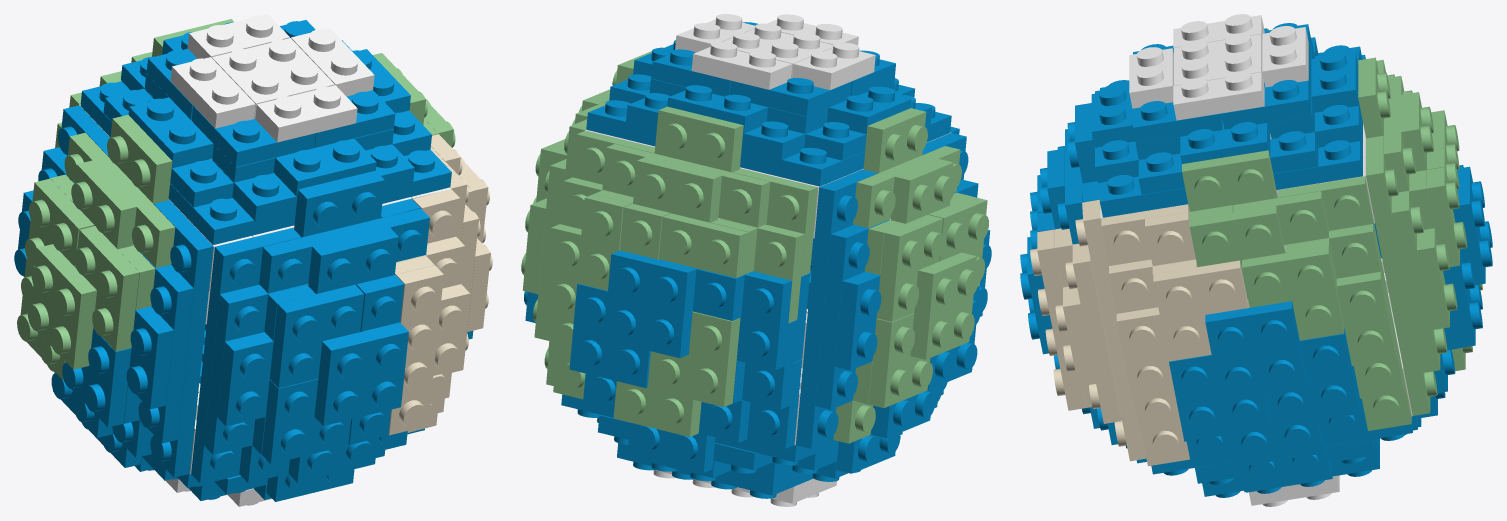
The model's file is earth.glb.
The picture shows the model from 3 angles, left to right: view 1: azimuth 30°, elevation 25°; view 2: azimuth 150°, elevation 25°; view 3: azimuth 270°, elevation 25°; orthographic projection.
Parts seen in each view (by area): view 1: 3022_dot_dat.105, 3795_dot_dat.008, 3958_dot_dat.003, 3022_dot_dat.103, 3795_dot_dat.009, 3022_dot_dat.097, 3710_dot_dat.023, 3022_dot_dat.093, 3710_dot_dat.019, 3022_dot_dat.104, 3022_dot_dat.121, 3020_dot_dat.038 (+49 smaller); view 2: 3022_dot_dat.087, 3795_dot_dat.007, 3022_dot_dat.086, 3022_dot_dat.097, 3958_dot_dat.003, 3020_dot_dat.046, 3022_dot_dat.094, 3022_dot_dat.085, 3710_dot_dat.016, 3022_dot_dat.081, 3020_dot_dat.031, 3022_dot_dat.082 (+56 smaller); view 3: 3022_dot_dat.079, 3022_dot_dat.077, 3022_dot_dat.075, 3795_dot_dat.006, 3022_dot_dat.078, 3022_dot_dat.076, 3958_dot_dat.003, 3666_dot_dat.003, 3795_dot_dat.011, 3022_dot_dat.071, 3020_dot_dat.040, 3022_dot_dat.073 (+49 smaller).
Part boxes in pixels (x1,y1,x2,y2): 3022_dot_dat.105: [314, 322, 408, 425]; 3795_dot_dat.008: [150, 200, 213, 477]; 3958_dot_dat.003: [80, 81, 451, 244]; 3022_dot_dat.103: [269, 284, 364, 388]; 3795_dot_dat.009: [191, 228, 301, 483]; 3022_dot_dat.097: [27, 244, 96, 369]; 3710_dot_dat.023: [388, 265, 443, 435]; 3022_dot_dat.093: [74, 226, 139, 351]; 3710_dot_dat.019: [259, 208, 429, 293]; 3022_dot_dat.104: [262, 379, 350, 463]; 3022_dot_dat.121: [212, 38, 334, 118]; 3020_dot_dat.038: [204, 284, 306, 454]; 3022_dot_dat.087: [603, 250, 696, 358]; 3795_dot_dat.007: [795, 169, 877, 448]; 3022_dot_dat.086: [647, 311, 740, 407]; 3022_dot_dat.097: [910, 252, 978, 359]; 3958_dot_dat.003: [586, 100, 951, 186]; 3020_dot_dat.046: [815, 220, 889, 409]; 3022_dot_dat.094: [876, 215, 944, 321]; 3022_dot_dat.085: [569, 283, 650, 387]; 3710_dot_dat.016: [602, 144, 770, 227]; 3022_dot_dat.081: [736, 271, 792, 369]; 3020_dot_dat.031: [654, 106, 743, 172]; 3022_dot_dat.082: [633, 157, 721, 222]; 3022_dot_dat.079: [1205, 301, 1307, 402]; 3022_dot_dat.077: [1242, 246, 1343, 340]; 3022_dot_dat.075: [1153, 260, 1248, 361]; 3795_dot_dat.006: [1366, 135, 1437, 415]; 3022_dot_dat.078: [1266, 327, 1359, 427]; 3022_dot_dat.076: [1169, 355, 1270, 441]; 3958_dot_dat.003: [1100, 45, 1362, 217]; 3666_dot_dat.003: [1075, 199, 1146, 461]; 3795_dot_dat.011: [1278, 176, 1411, 430]; 3022_dot_dat.071: [1189, 205, 1285, 299]; 3020_dot_dat.040: [1182, 150, 1285, 245]; 3022_dot_dat.073: [1336, 272, 1396, 365].
Bounding box in the file's own units: 8.31 × 8.68 × 8.41.
